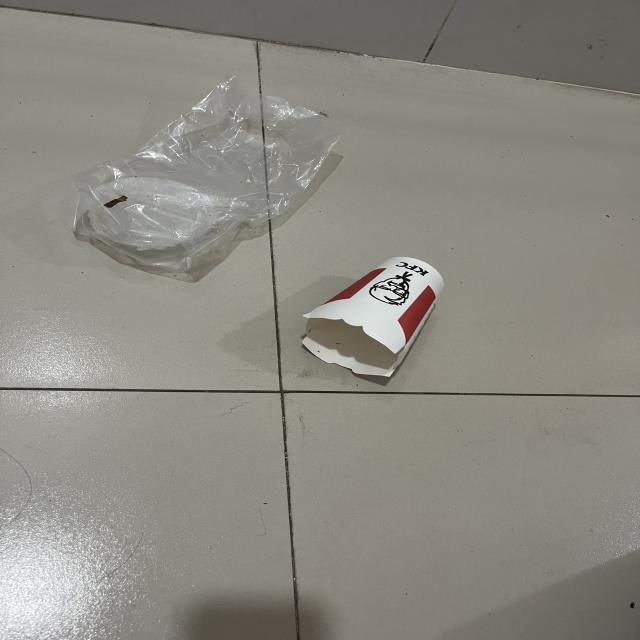bag: (71, 74, 344, 275)
cardboard box: (300, 257, 447, 379)
